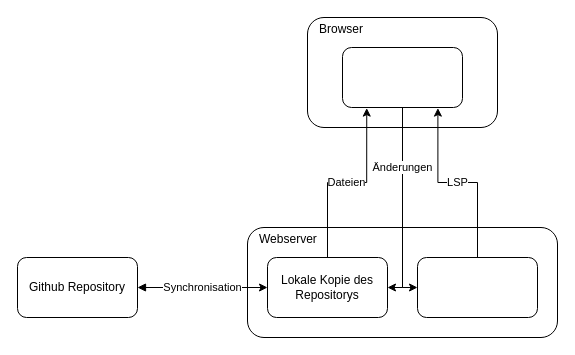
This 575x355 diagram has some shape labels left out. The centre of each missing label's shape, as x and y in pixels:
Lean Language Server: point 477,287
Monaco Editor (LSP Client): point 402,77
